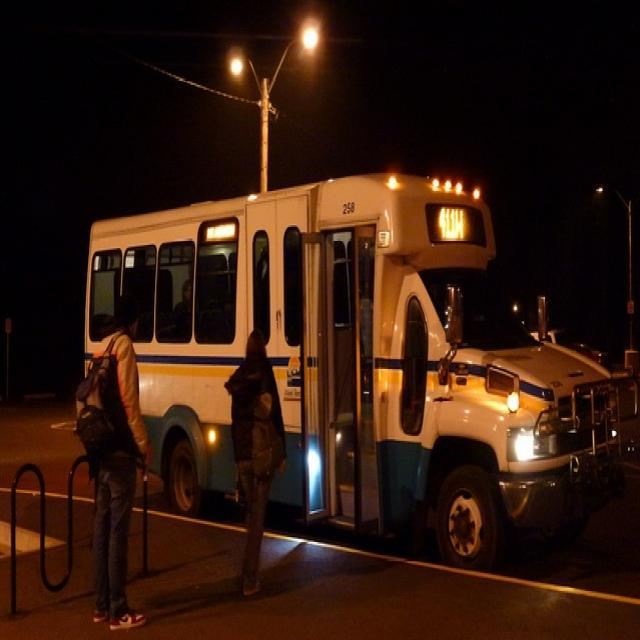Bus: (88, 144, 627, 575)
People: (90, 271, 166, 632), (226, 336, 293, 586), (171, 280, 196, 361)
